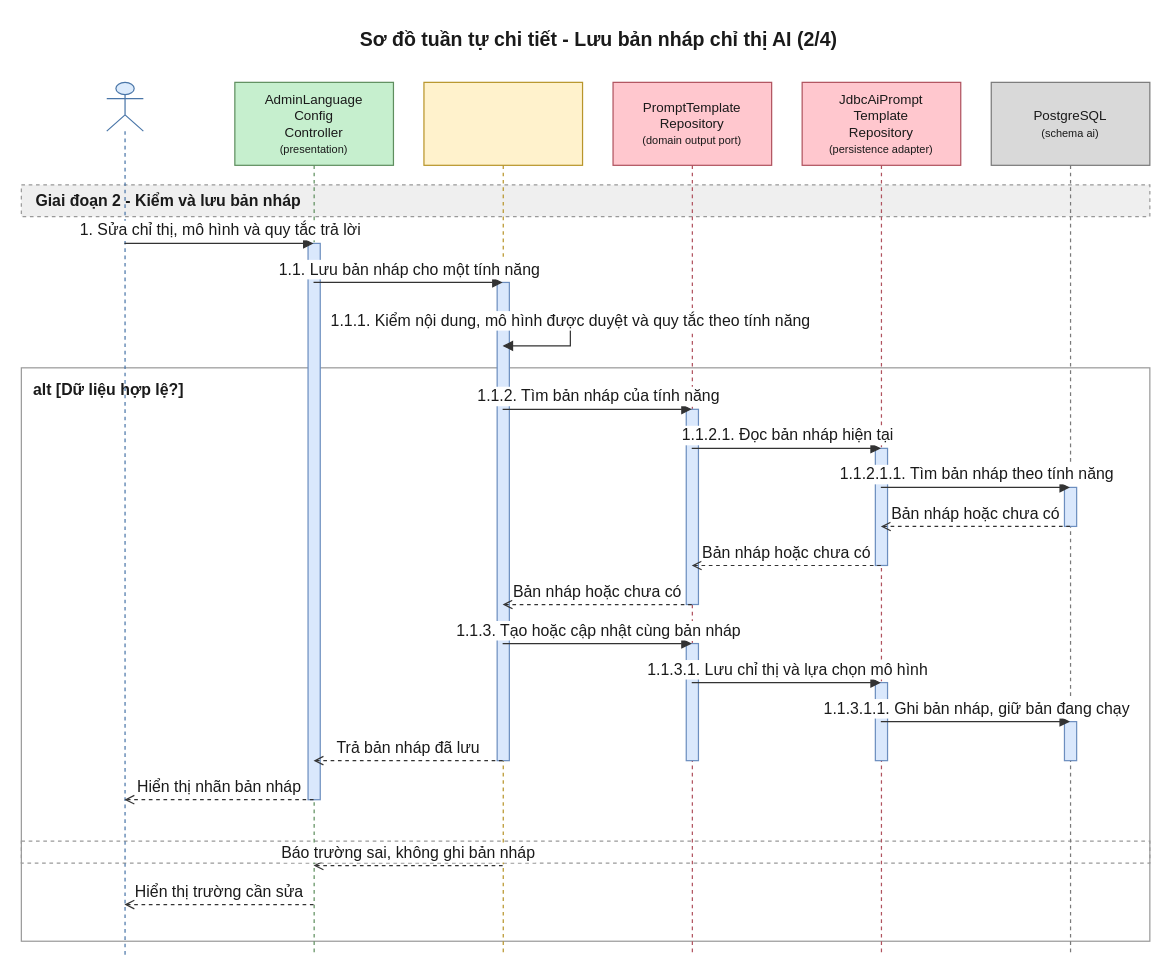
Image size: 1171x977. Some labels were removed from this diagram. Here are the shapes that lost their labels. From the top down, the box of each, then its label:
(106, 81, 143, 956): Quản trị viên
(423, 81, 583, 956): UpdatePrompt DraftCommand Handler (application command)
(20, 840, 1150, 863): else
